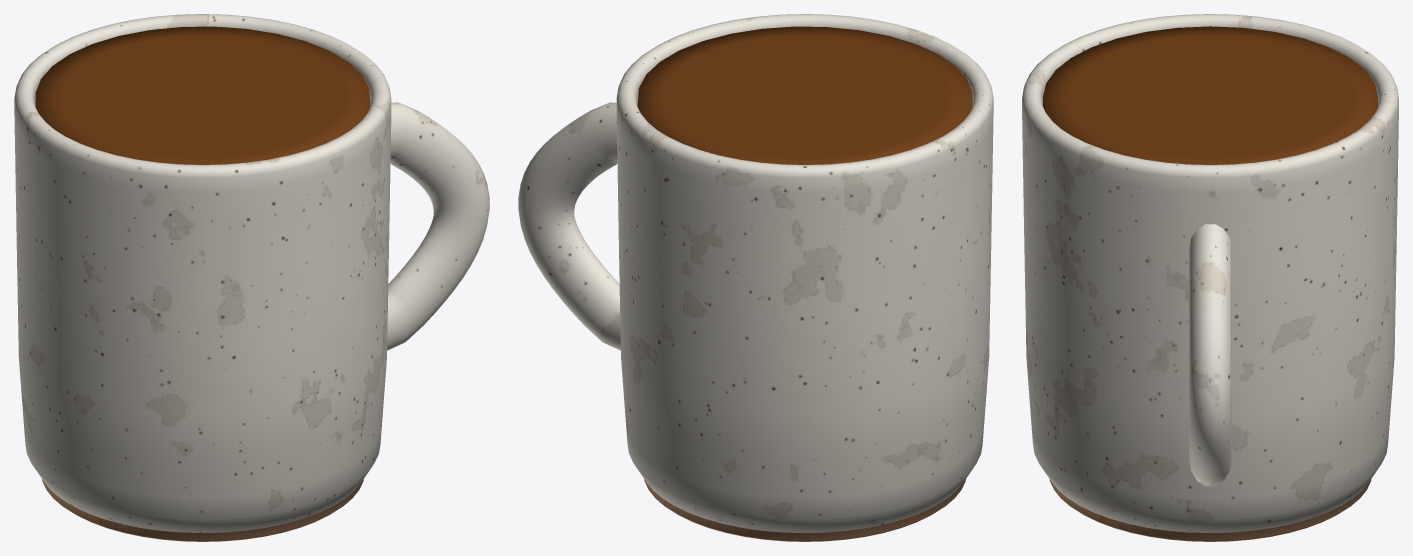
The model's file is mug_stoneware.glb.
3 views of the same model, side by side, from view 1: azimuth 30°, elevation 25°; view 2: azimuth 150°, elevation 25°; view 3: azimuth 270°, elevation 25° (orthographic).
Parts seen in each view (by area): view 1: mug_stoneware, mug_stoneware_liquid; view 2: mug_stoneware, mug_stoneware_liquid; view 3: mug_stoneware, mug_stoneware_liquid.
Boxes of the visible parts, box(x1,y1,x2,y2) form: mug_stoneware: box(14, 14, 489, 541); mug_stoneware_liquid: box(35, 26, 370, 164); mug_stoneware: box(518, 14, 993, 541); mug_stoneware_liquid: box(637, 26, 972, 164); mug_stoneware: box(1022, 14, 1398, 541); mug_stoneware_liquid: box(1043, 26, 1377, 164).
Size of the model in its own units: 0.1193 by 0.098 by 0.087.
2 materials, 1 textured.
